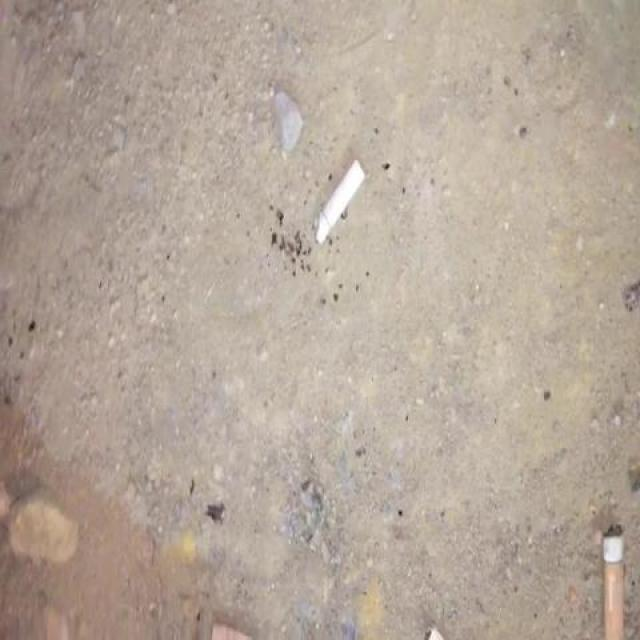non-organic waste: (311, 153, 370, 250), (598, 522, 630, 640)
